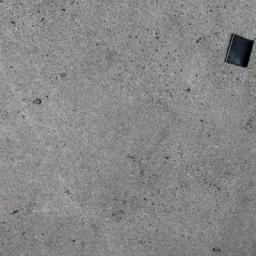FOD: (220, 31, 256, 74)
